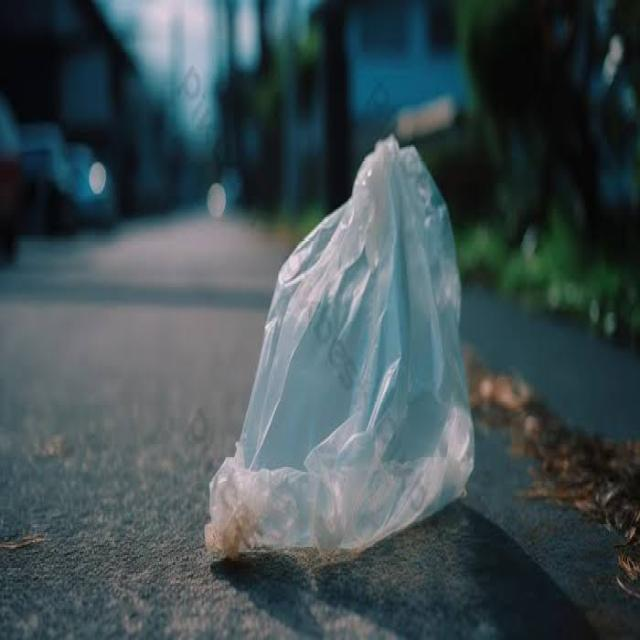plastic bag: (189, 124, 482, 580)
